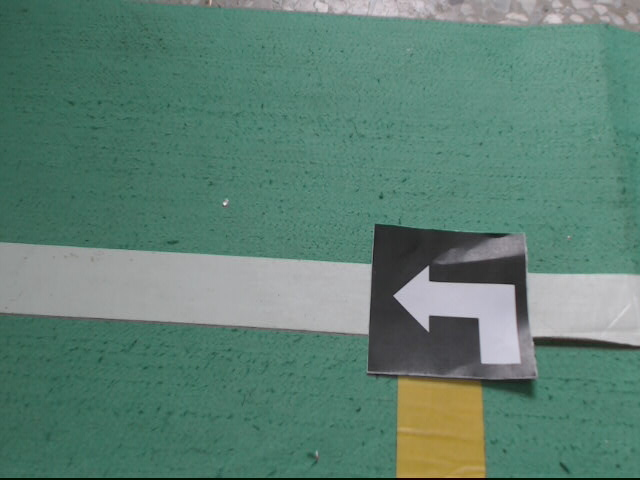left: (368, 223, 541, 382)
